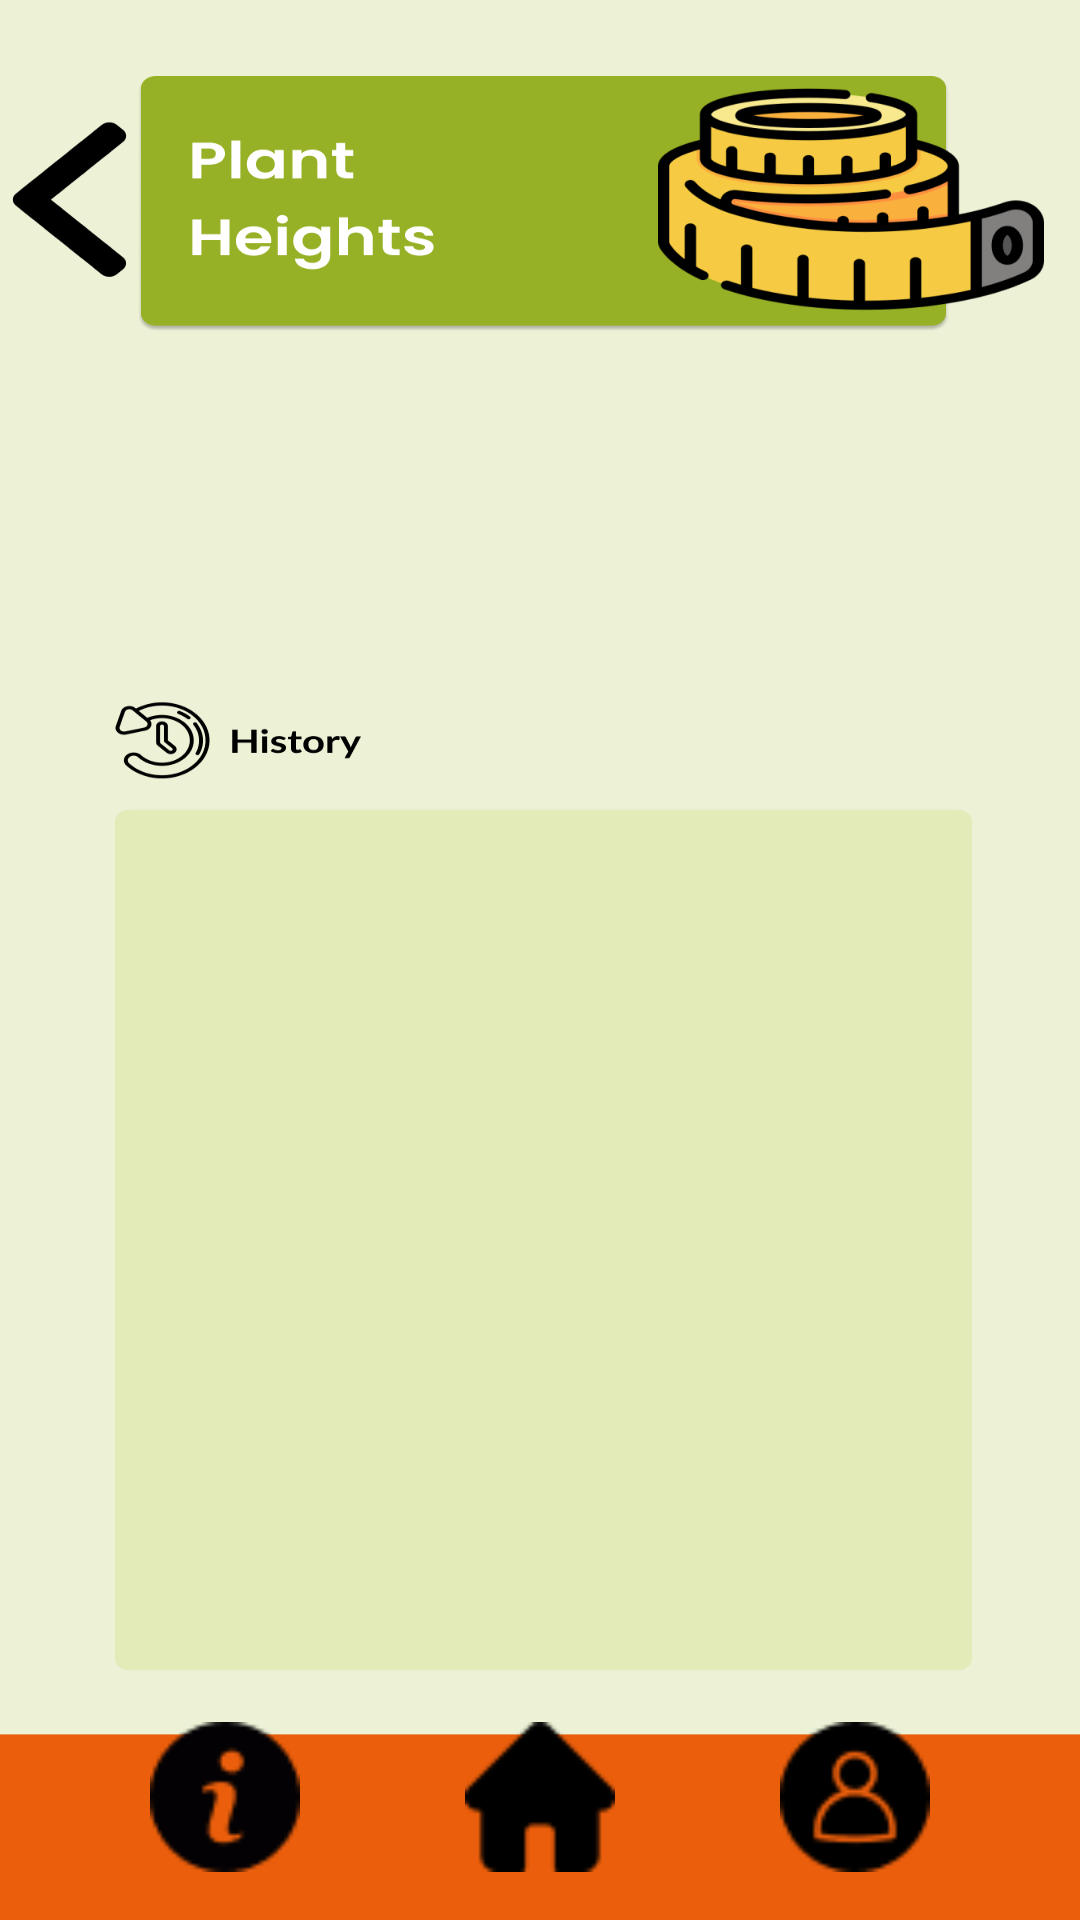

Icons on this 1080px×1920px Android screen, each with its box as Rect(x1, y1, x2, y2):
home: Rect(465, 1722, 615, 1872)
information: Rect(150, 1722, 300, 1872)
profile: Rect(780, 1722, 930, 1872)
